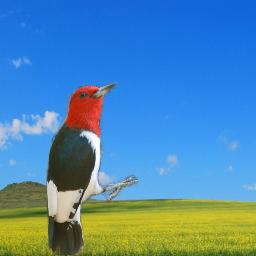Woodpecker: (45, 82, 138, 255)
